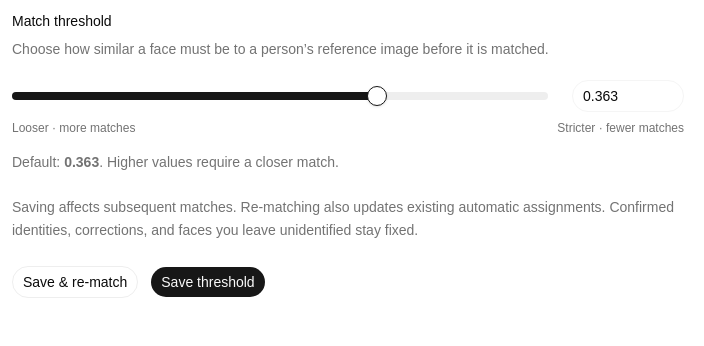
Test: an empty threshold is rejected before requesting a re-match
The image size is (704, 346).
Click the field labelled "Match threshold": [628, 96] box [572, 80, 684, 112]
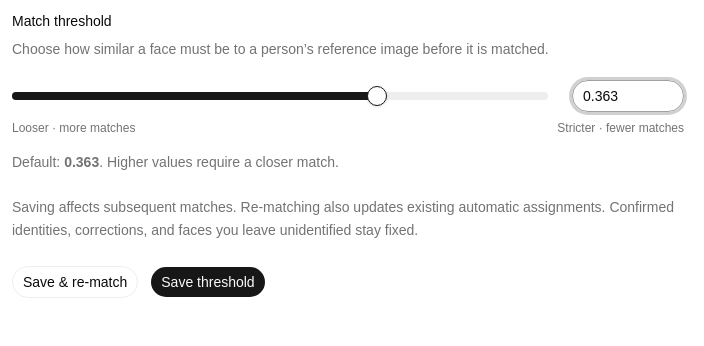
Type keys "{Control>}a{/Control}{Backspace}"
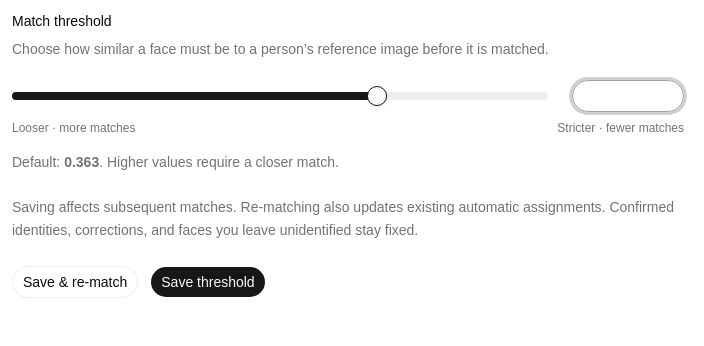
Check: the field labelled "Match threshold" is empty, box [572, 80, 684, 112]
Click the button "Save & re-match": [75, 282] box [12, 266, 138, 298]
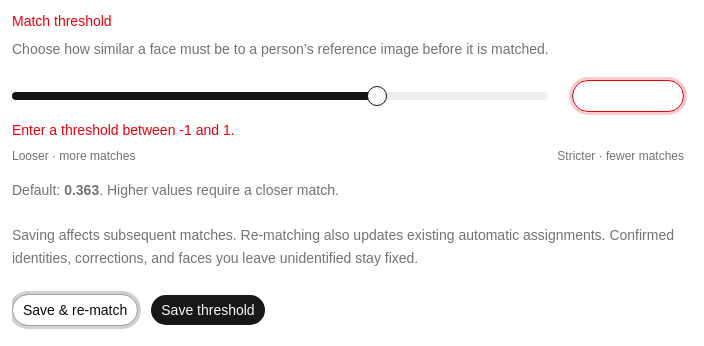
Check: the message reads "Enter a threshold between -1 and 1.", box [12, 122, 235, 138]
